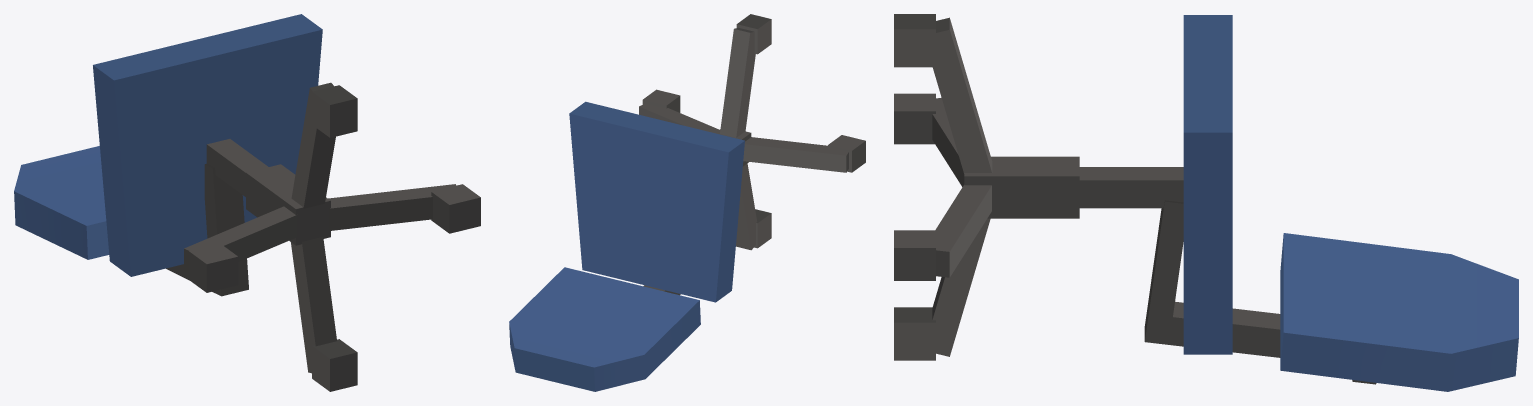
File: Chair2.glb
The picture shows the model from 3 angles, left to right: view 1: azimuth 30°, elevation 25°; view 2: azimuth 150°, elevation 25°; view 3: azimuth 270°, elevation 25°; orthographic projection. The views are drawn at different scales.
Visible parts, largest first — view 1: SO_Chair02; view 2: SO_Chair02; view 3: SO_Chair02.
Boxes of the visible parts, bbox=[...] form: SO_Chair02: bbox=[14, 14, 480, 391]; SO_Chair02: bbox=[509, 14, 865, 391]; SO_Chair02: bbox=[894, 14, 1518, 391].
Bounding box in the file's own units: 1.24 × 1.34 × 2.12.
Materials: 1 (1 with a texture image).
